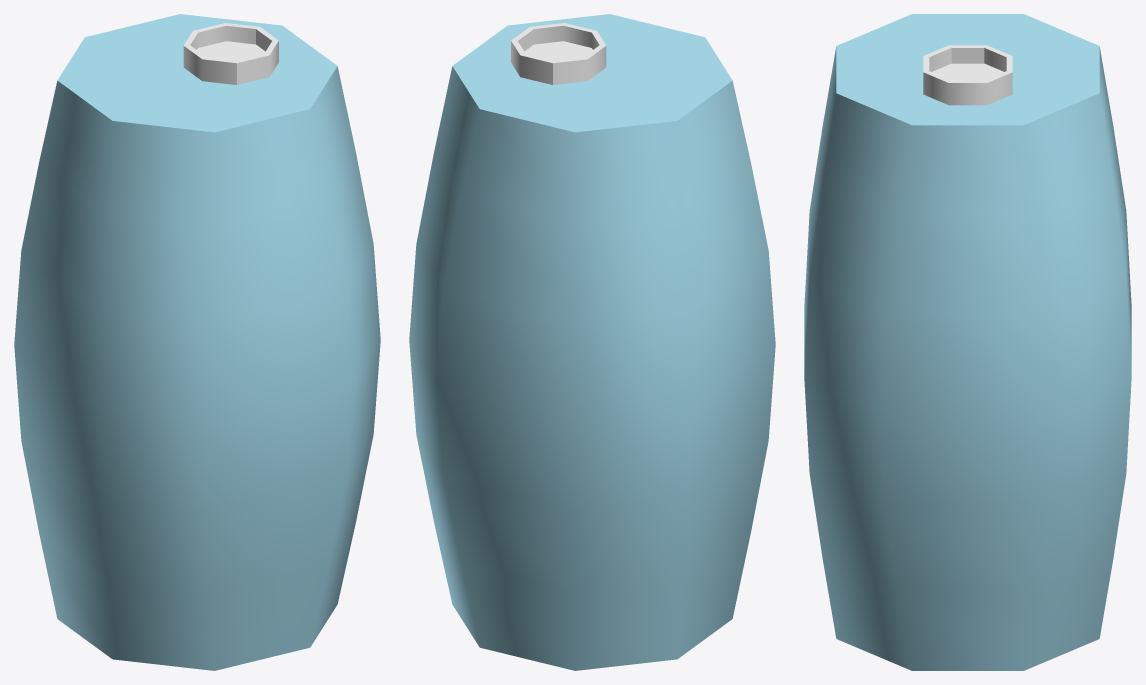
File: Bottle.glb
The picture shows the model from 3 angles, left to right: view 1: azimuth 30°, elevation 25°; view 2: azimuth 150°, elevation 25°; view 3: azimuth 270°, elevation 25°; orthographic projection.
Parts seen in each view (by area): view 1: Cube; view 2: Cube; view 3: Cube.
Boxes of the visible parts, <box> form: Cube: <box>14,14,380,670</box>; Cube: <box>409,14,775,670</box>; Cube: <box>804,14,1131,670</box>.
Size of the model in its own units: 2.48 by 4.76 by 2.48.
Materials: 1 (1 with a texture image).
